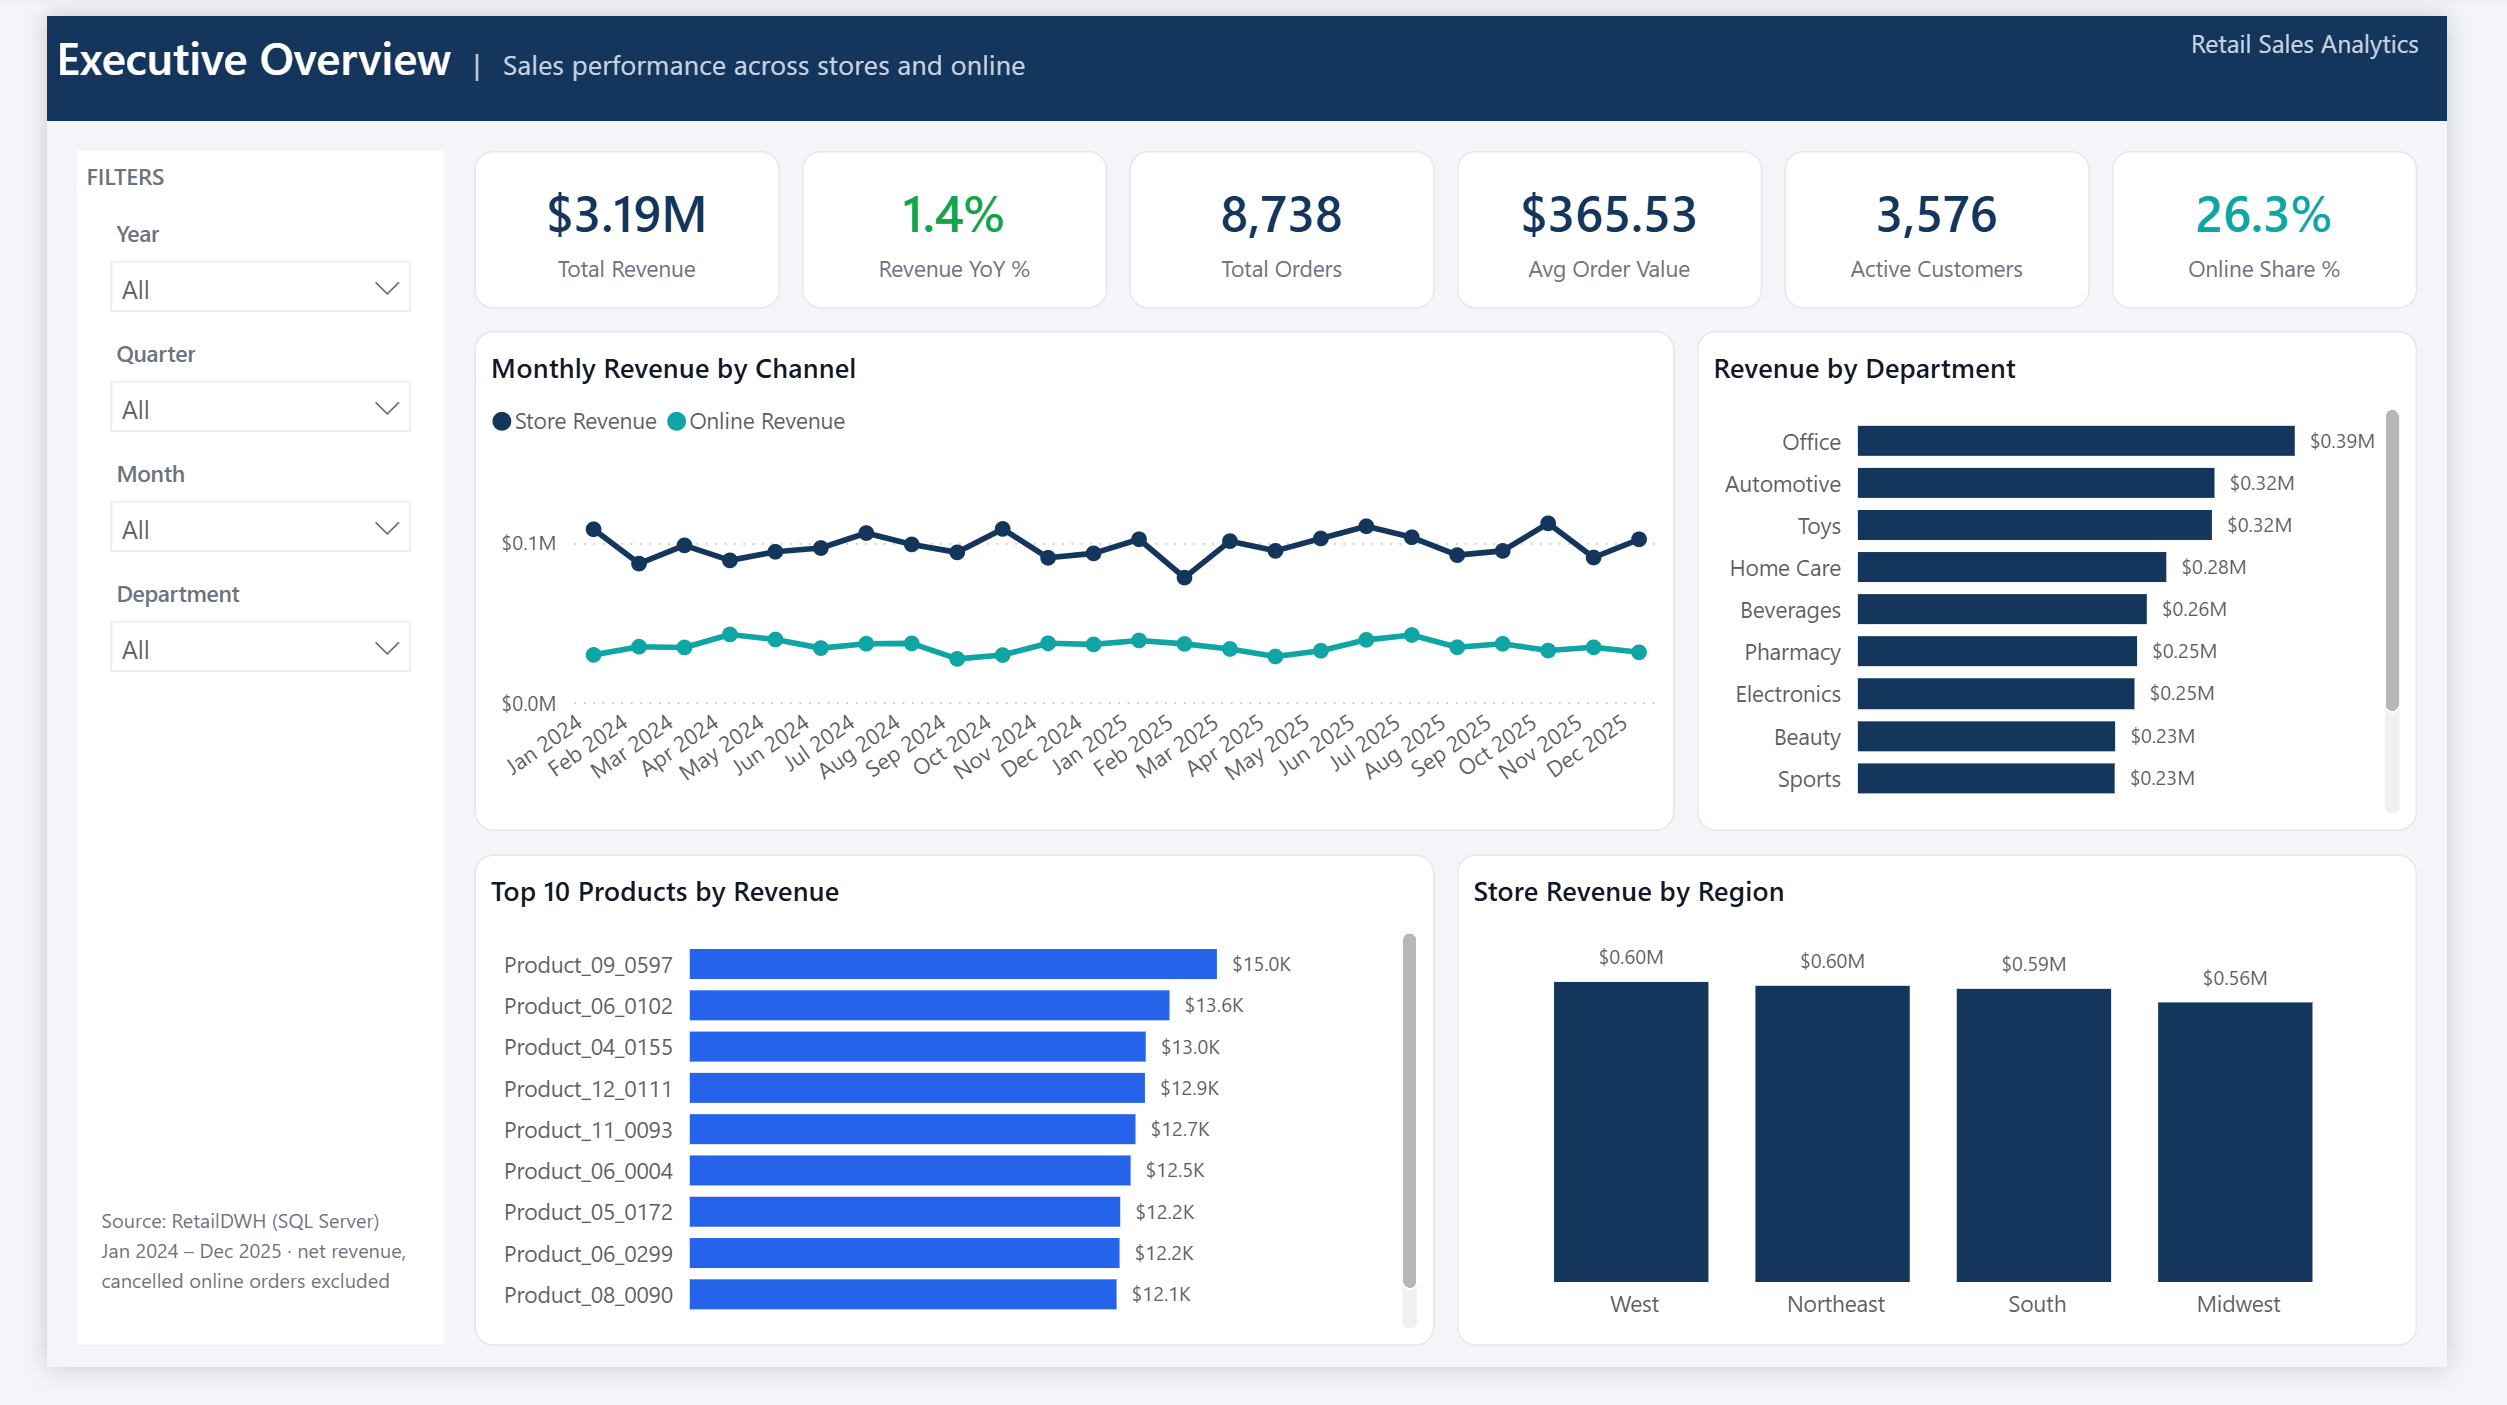

Layout of this report page (visuals, bound fields, positions):
{"tool":"powerbi","page":{"name":"Executive Overview","canvas":[1280,720],"ordinal":0},"visuals":[{"type":"textbox","box":[0,0,1280,56],"z":2000},{"type":"textbox","box":[980,0,290,56],"z":3000},{"type":"textbox","box":[16,72,196,636],"z":4000},{"type":"slicer","fields":{"Values":["Date.Year"]},"box":[24,102,180,56],"z":5000},{"type":"slicer","fields":{"Values":["Date.Quarter"]},"box":[24,166,180,56],"z":6000},{"type":"slicer","fields":{"Values":["Date.Month Name"]},"box":[24,230,180,56],"z":7000},{"type":"slicer","fields":{"Values":["Product.Department"]},"box":[24,294,180,56],"z":8000},{"type":"textbox","box":[24,628,180,64],"z":9000},{"type":"card","fields":{"Values":["Key Measures.Total Revenue"]},"box":[228,72,162.7,84],"z":10000},{"type":"card","fields":{"Values":["Key Measures.Revenue YoY %"]},"box":[402.7,72,162.7,84],"z":11000},{"type":"card","fields":{"Values":["Key Measures.Total Orders"]},"box":[577.3,72,162.7,84],"z":12000},{"type":"card","fields":{"Values":["Key Measures.Avg Order Value"]},"box":[752,72,162.7,84],"z":13000},{"type":"card","fields":{"Values":["Key Measures.Active Customers"]},"box":[926.7,72,162.7,84],"z":14000},{"type":"card","fields":{"Values":["Key Measures.Online Share %"]},"box":[1101.3,72,162.7,84],"z":15000},{"type":"lineChart","title":"Monthly Revenue by Channel","fields":{"Category":["Date.Month"],"Y":["Key Measures.Store Revenue","Key Measures.Online Revenue"]},"box":[228,168,640,266],"z":16000},{"type":"clusteredBarChart","title":"Revenue by Department","fields":{"Category":["Product.Department"],"Y":["Key Measures.Total Revenue"]},"box":[880,168,384,266],"z":17000},{"type":"clusteredBarChart","title":"Top 10 Products by Revenue","fields":{"Category":["Product.Product"],"Y":["Key Measures.Total Revenue"]},"box":[228,446,512,262],"z":18000},{"type":"clusteredColumnChart","title":"Store Revenue by Region","fields":{"Category":["Store.Region"],"Y":["Key Measures.Store Revenue"]},"box":[752,446,512,262],"z":19000}]}

Visuals, with their boxes in screenshot pixels (x1, y1, x2, y2), scaled from the page's 1280x720 canvas onto the 2507x1405 screenshot:
textbox: select_region(0, 0, 2506, 109)
textbox: select_region(1919, 0, 2487, 109)
textbox: select_region(31, 140, 415, 1382)
slicer - Date.Year: select_region(47, 199, 400, 308)
slicer - Date.Quarter: select_region(47, 324, 400, 433)
slicer - Date.Month Name: select_region(47, 449, 400, 558)
slicer - Product.Department: select_region(47, 574, 400, 683)
textbox: select_region(47, 1225, 400, 1350)
card - Key Measures.Total Revenue: select_region(447, 140, 765, 304)
card - Key Measures.Revenue YoY %: select_region(789, 140, 1107, 304)
card - Key Measures.Total Orders: select_region(1131, 140, 1449, 304)
card - Key Measures.Avg Order Value: select_region(1473, 140, 1792, 304)
card - Key Measures.Active Customers: select_region(1815, 140, 2134, 304)
card - Key Measures.Online Share %: select_region(2157, 140, 2476, 304)
"Monthly Revenue by Channel" lineChart: select_region(447, 328, 1700, 847)
"Revenue by Department" clusteredBarChart: select_region(1724, 328, 2476, 847)
"Top 10 Products by Revenue" clusteredBarChart: select_region(447, 870, 1449, 1382)
"Store Revenue by Region" clusteredColumnChart: select_region(1473, 870, 2476, 1382)
